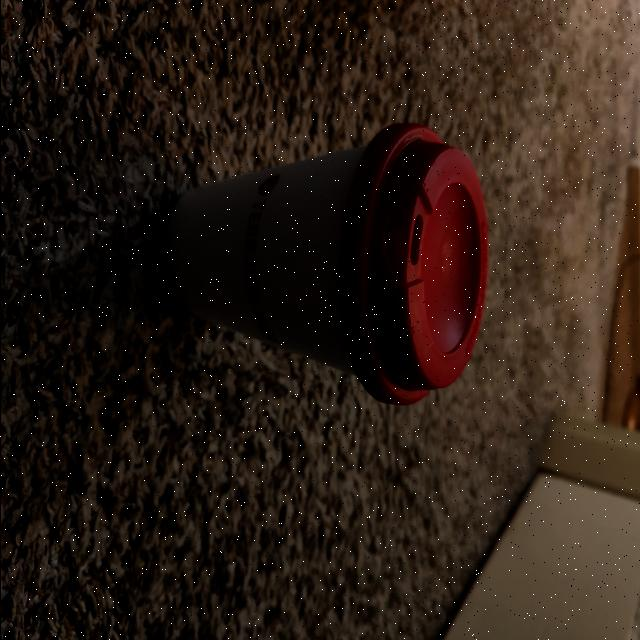mug: (158, 149, 472, 382)
